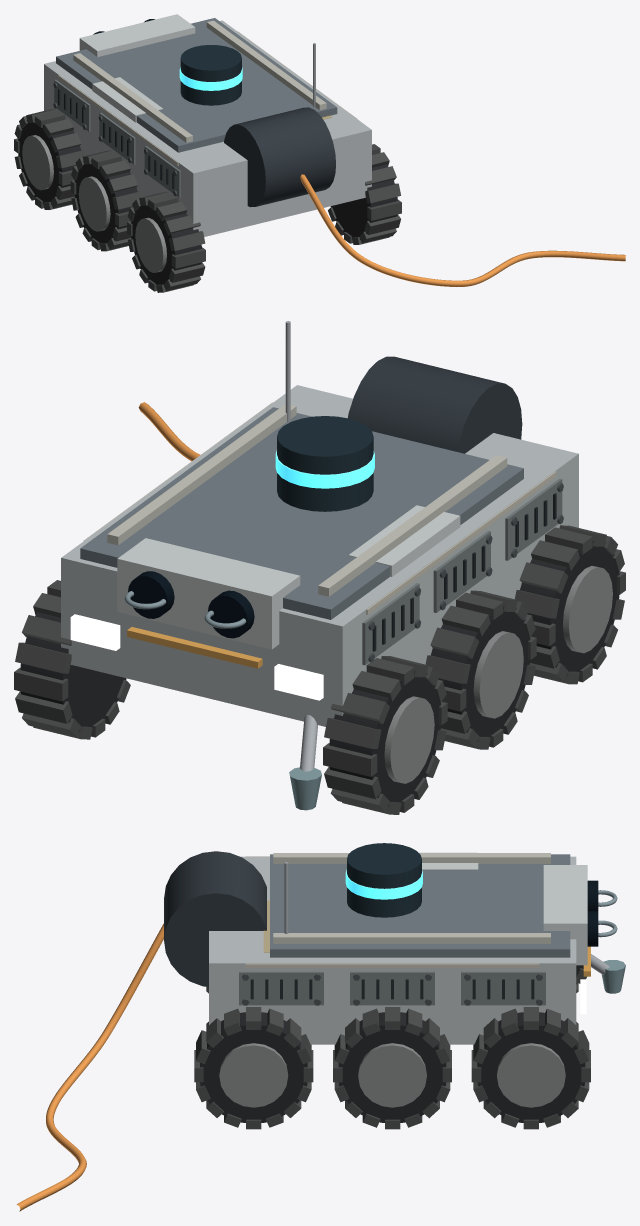
Rendered from nx2-exterior.glb.
3 renders of one model, top to bottom at view 1: azimuth 30°, elevation 25°; view 2: azimuth 150°, elevation 25°; view 3: azimuth 270°, elevation 25°, orthographic. The views are drawn at different scales.
Visible parts, largest first — view 1: RoundedBox (×4), wheels, tether, lidar, object 76, object 77, object 34, object 14, object 24, object 44; view 2: RoundedBox (×6), wheels, tether, lidar, object 77, object 76, cameras, object 24, object 14, object 34, sensors, object 82 (+1 smaller); view 3: RoundedBox (×3), wheels, tether, lidar, object 77, object 55, object 65, object 45, object 76, object 75, sensors, cameras.
Boxes of the visible parts, left/top/right/bottom form: RoundedBox (×4): left=44, top=14, right=371, bottom=236; wheels: left=14, top=109, right=401, bottom=292; tether: left=224, top=107, right=625, bottom=286; lidar: left=179, top=45, right=242, bottom=105; object 76: left=73, top=53, right=192, bottom=142; object 77: left=206, top=20, right=326, bottom=110; object 34: left=144, top=146, right=180, bottom=197; object 14: left=54, top=79, right=90, bottom=131; object 24: left=99, top=113, right=135, bottom=164; object 44: left=58, top=75, right=178, bottom=165; RoundedBox (×6): left=61, top=385, right=578, bottom=726; wheels: left=14, top=525, right=625, bottom=814; tether: left=138, top=356, right=522, bottom=461; lidar: left=275, top=416, right=374, bottom=511; object 77: left=107, top=404, right=296, bottom=545; object 76: left=318, top=455, right=507, bottom=596; cameras: left=128, top=571, right=254, bottom=638; object 24: left=433, top=530, right=490, bottom=612; object 14: left=362, top=583, right=419, bottom=665; object 34: left=505, top=478, right=562, bottom=560; sensors: left=289, top=715, right=321, bottom=810; object 82: left=127, top=627, right=262, bottom=668; RoundedBox (×3): left=209, top=854, right=587, bottom=1044; wheels: left=194, top=965, right=590, bottom=1129; tether: left=16, top=851, right=266, bottom=1211; lidar: left=345, top=843, right=422, bottom=917; object 77: left=273, top=933, right=550, bottom=943; object 55: left=350, top=971, right=434, bottom=1005; object 65: left=239, top=971, right=323, bottom=1005; object 45: left=461, top=971, right=545, bottom=1005; object 76: left=273, top=853, right=550, bottom=863; object 75: left=245, top=963, right=539, bottom=967; sensors: left=591, top=954, right=625, bottom=993; cameras: left=587, top=880, right=598, bottom=946.
Bounding box in the file's own units: 3.31 × 1.6 × 3.75.
